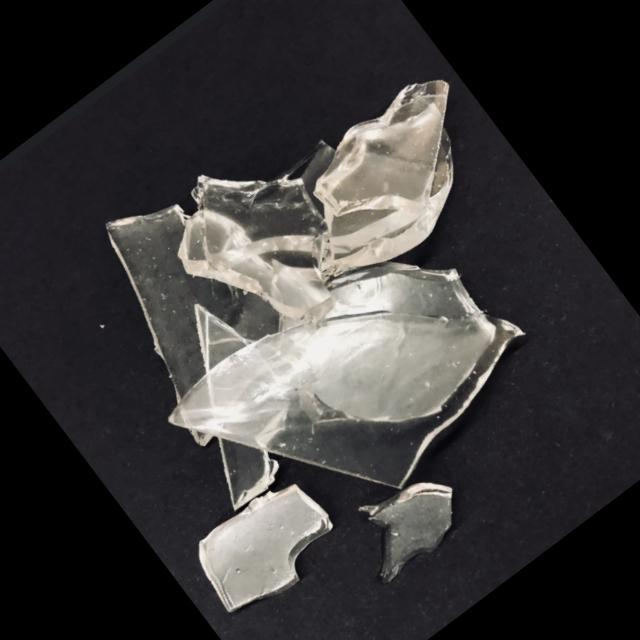PecahanKaca: (0, 6, 640, 640), (182, 466, 352, 627), (337, 453, 478, 588)
